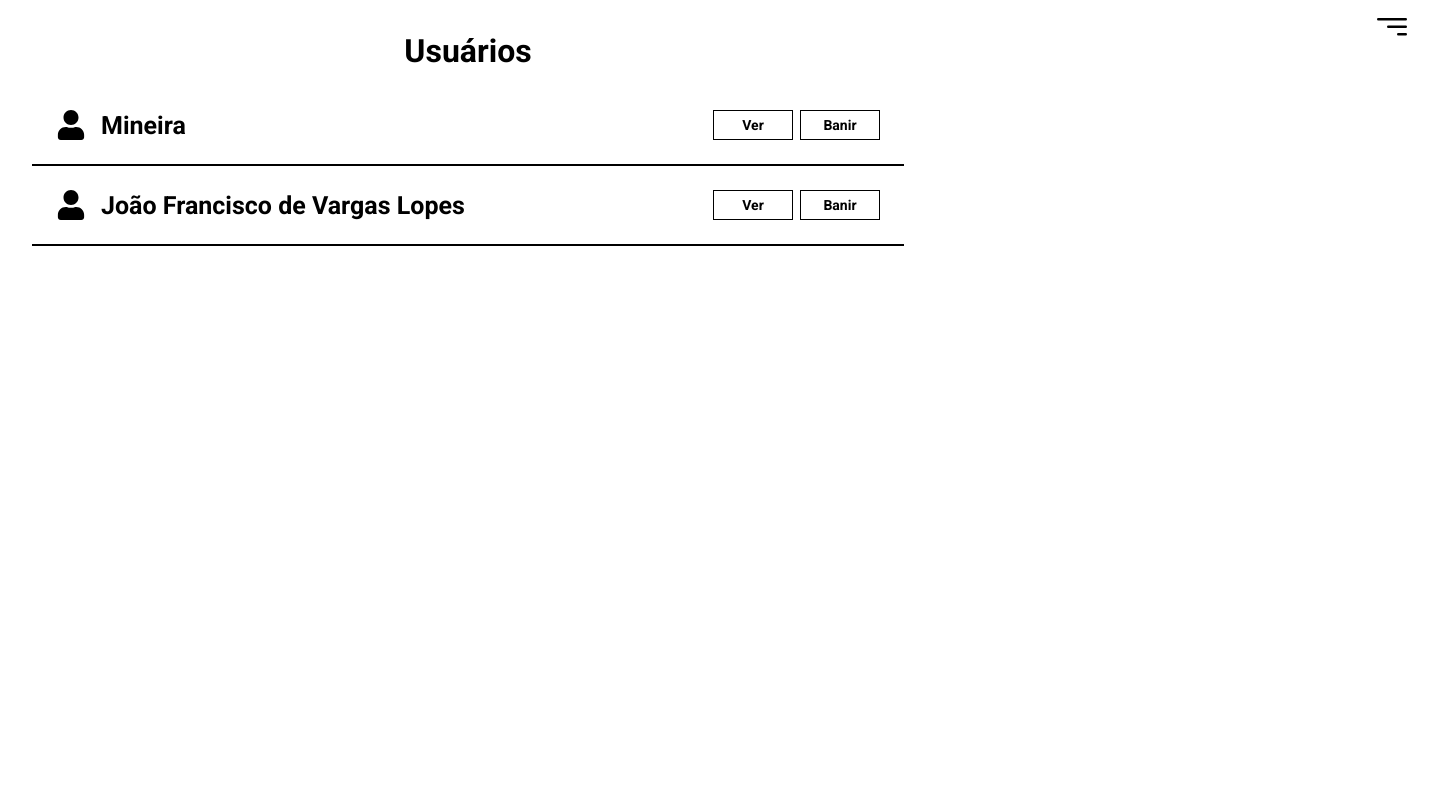
it: Users › Render warning ban
The width and height of the screenshot is (1440, 810).
Step 1. Click the button "Banir" in the row of "Mineira" → (840, 125), box top-left (800, 110), bottom-right (880, 140)
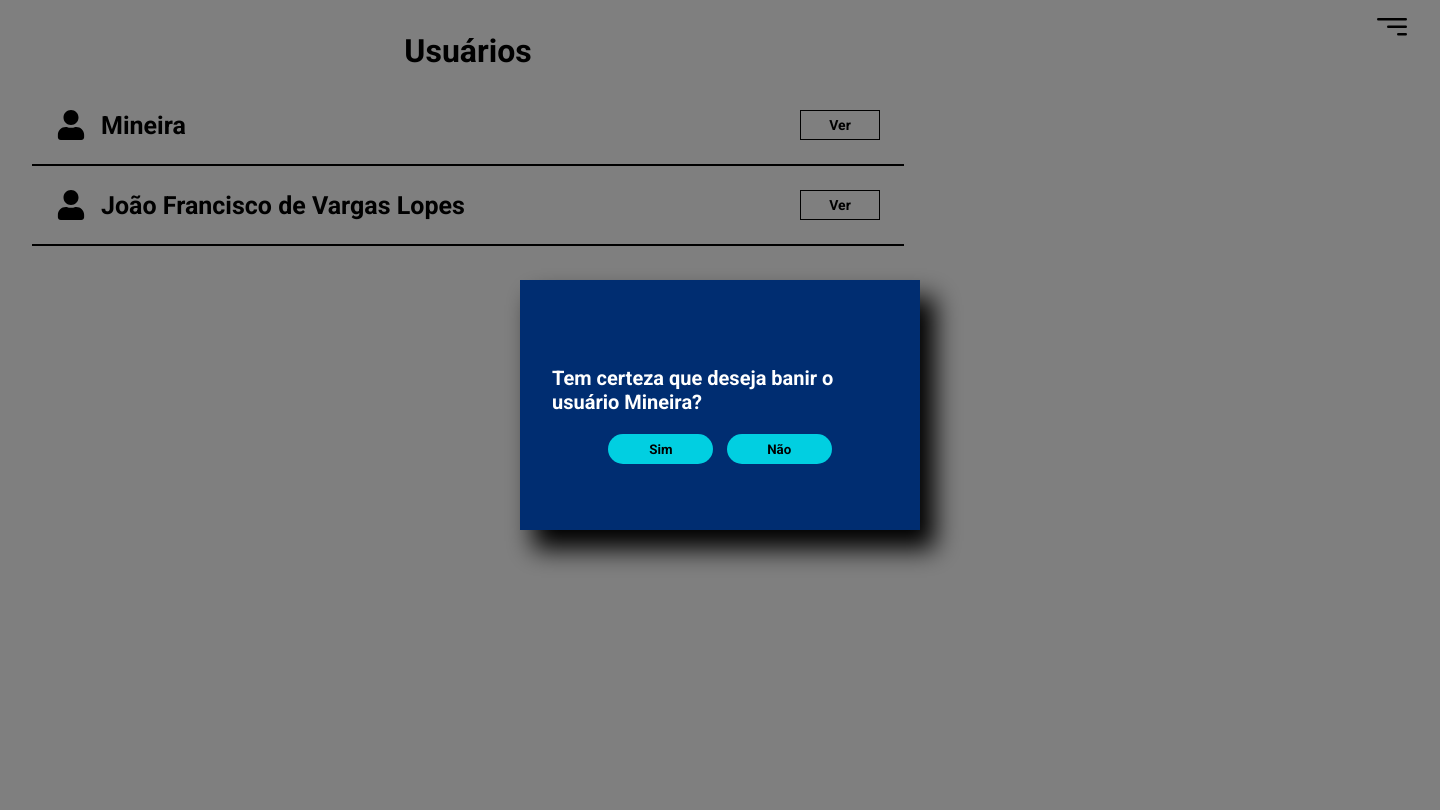
Check: the text "Tem certeza que deseja banir o usuário Mineira?" is shown, box top-left (552, 366), bottom-right (833, 414)
Check: the button "Sim" is shown, box top-left (608, 434), bottom-right (713, 464)
Check: the button "Não" is shown, box top-left (727, 434), bottom-right (832, 464)
